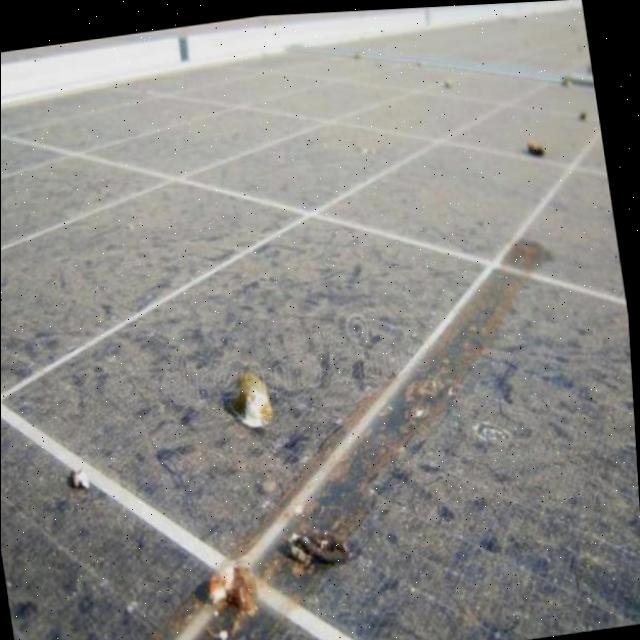Surface Contaminant: (0, 5, 640, 640)
